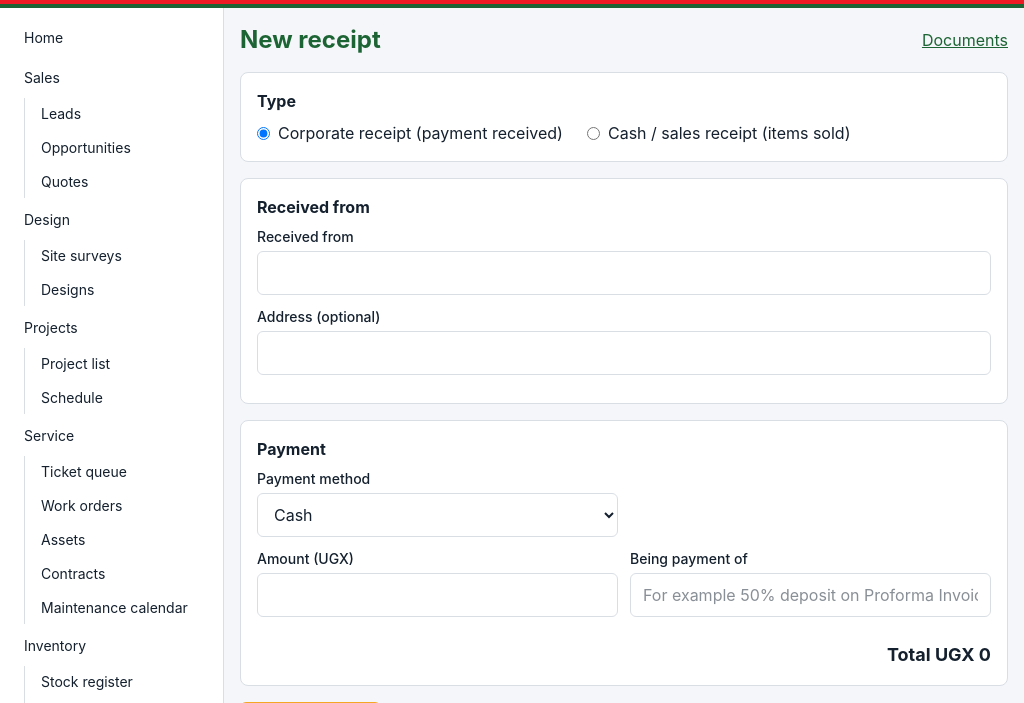
it: receipts › issues a corporate receipt and shows the amount in words as you type
Type "Mr. Benjamin Patrick M" into the field labelled "Received from" at (624, 273), box [257,251,991,295]
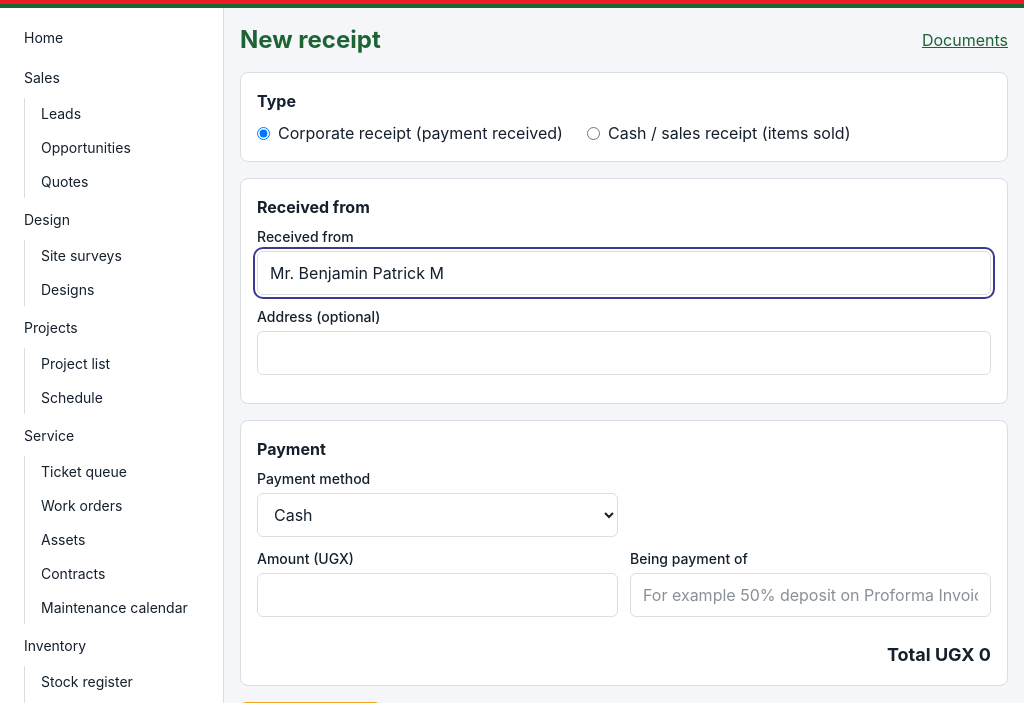
Type "1450000" into the number field labelled "Amount (UGX)" at (438, 595), box [257,573,618,617]
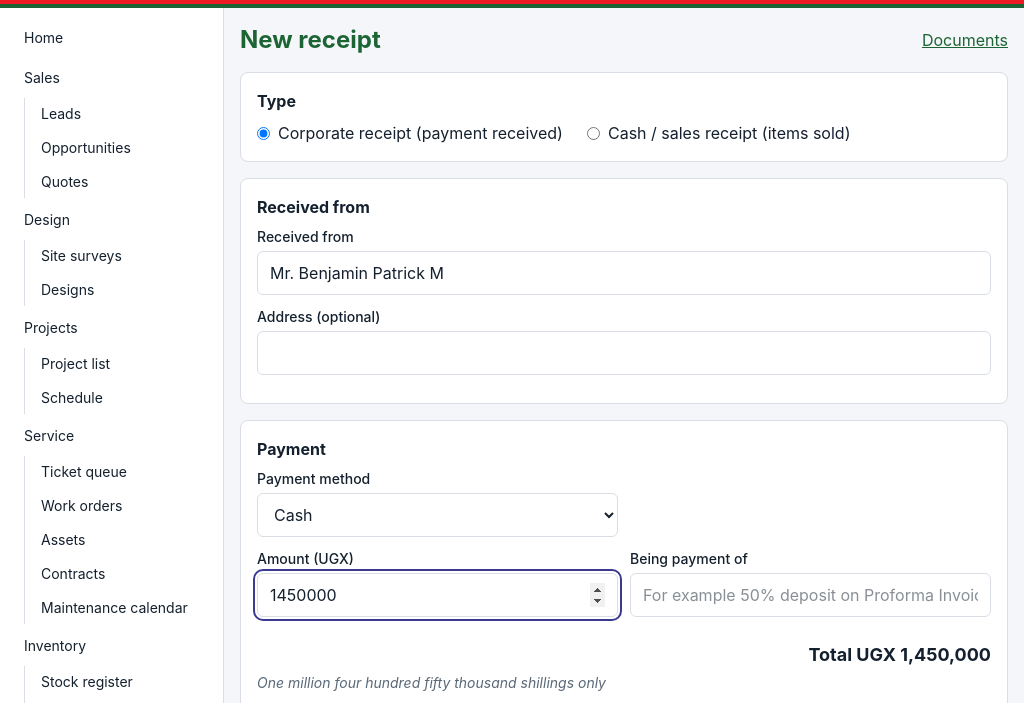
Type "50% deposit on Proforma Invoice 0248" into the field labelled "Being payment of" at (810, 595), box [630,573,991,617]
(page scrolled)
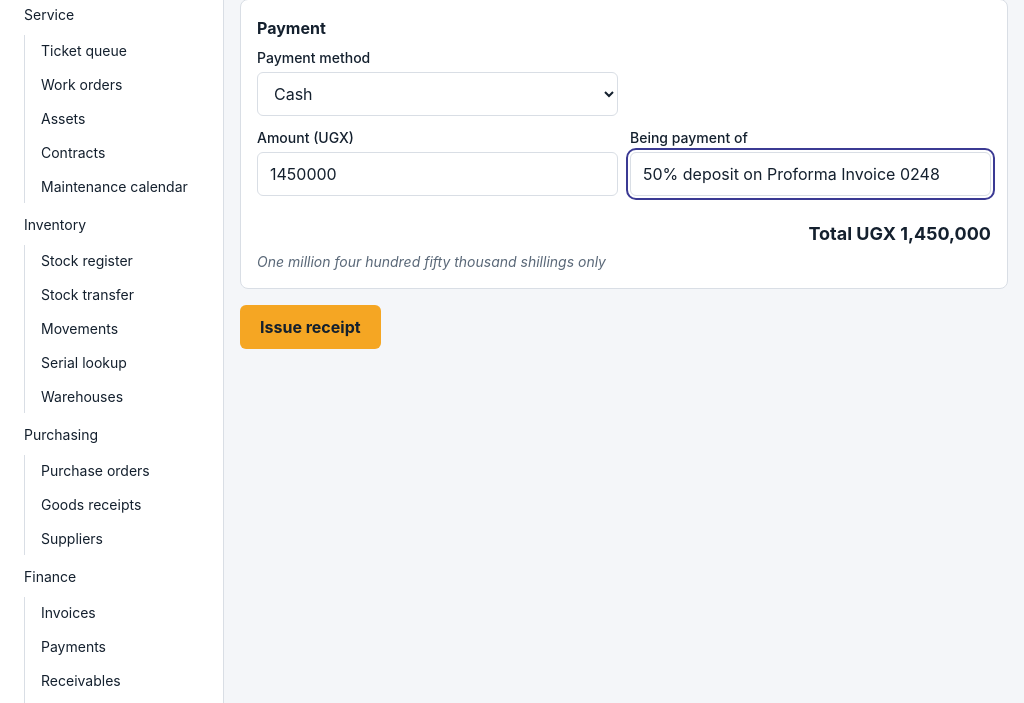
Expected: the text "One million four hundred fifty thousand shillings only" is shown, [257,253,606,270]
Click the button "Issue receipt" at (310, 327), box [240,305,381,349]
(page scrolled)
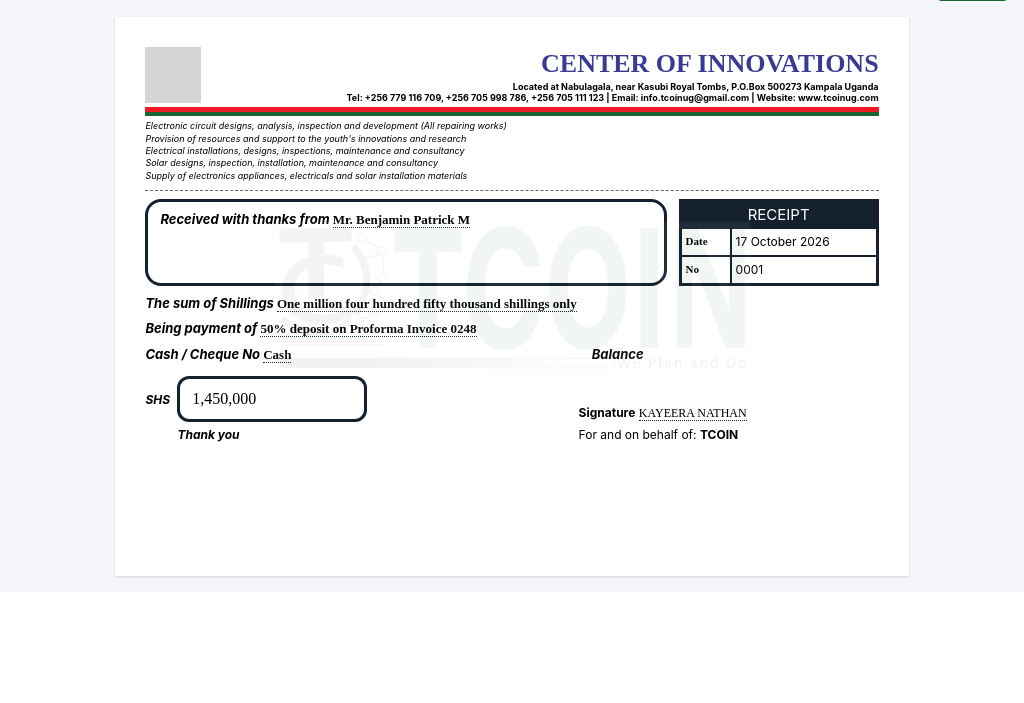
Expected: the text "RECEIPT" is shown, [682,202,876,229]
Expected: the text "0001" is shown, [730,257,876,283]
Expected: the text "50% deposit on Proforma Invoice 0248" is shown, [260,321,476,337]
